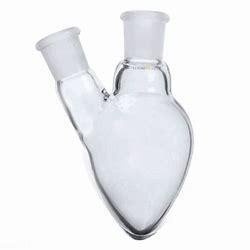Pear shaped flask: (21, 8, 193, 243)
